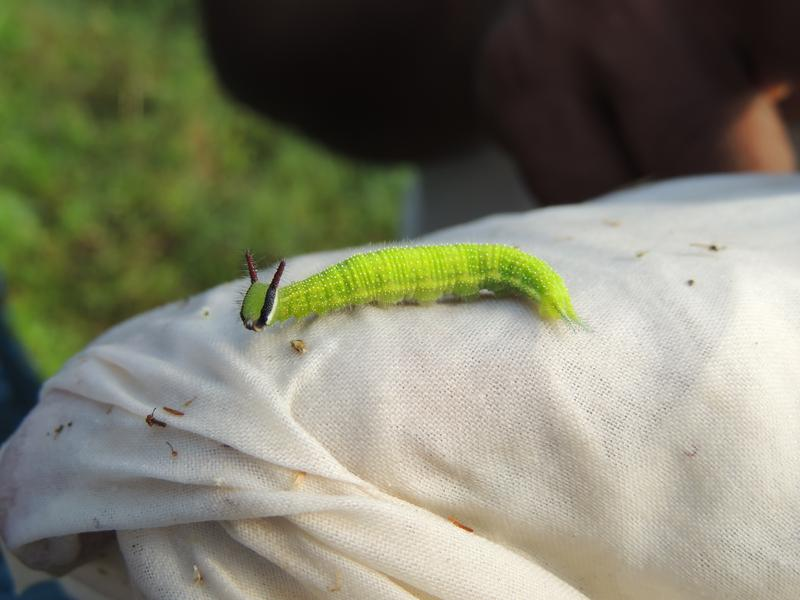Rice_horned_caterpillar: (213, 232, 587, 355)
